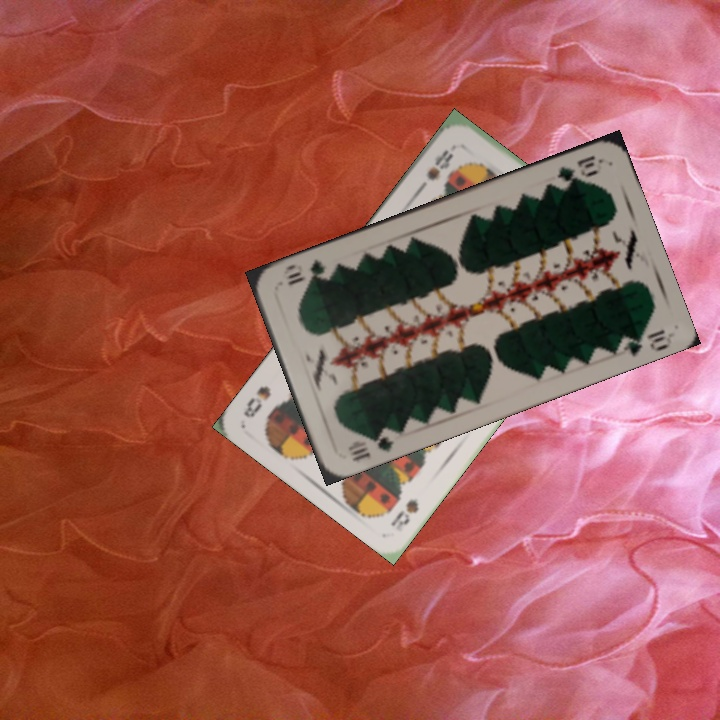G10: (344, 426, 397, 465), (553, 151, 600, 187)
S8: (386, 494, 422, 534), (422, 145, 456, 184)
